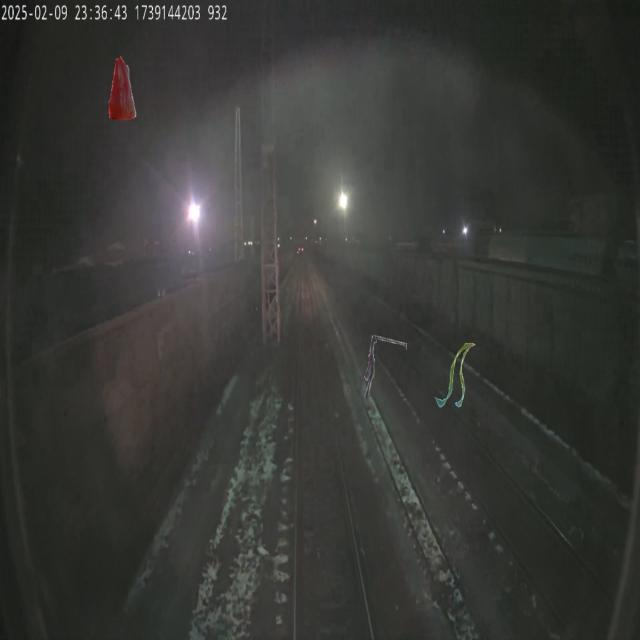floating object: (363, 336, 408, 400), (435, 343, 477, 407)
plastic bag: (108, 56, 136, 120)
